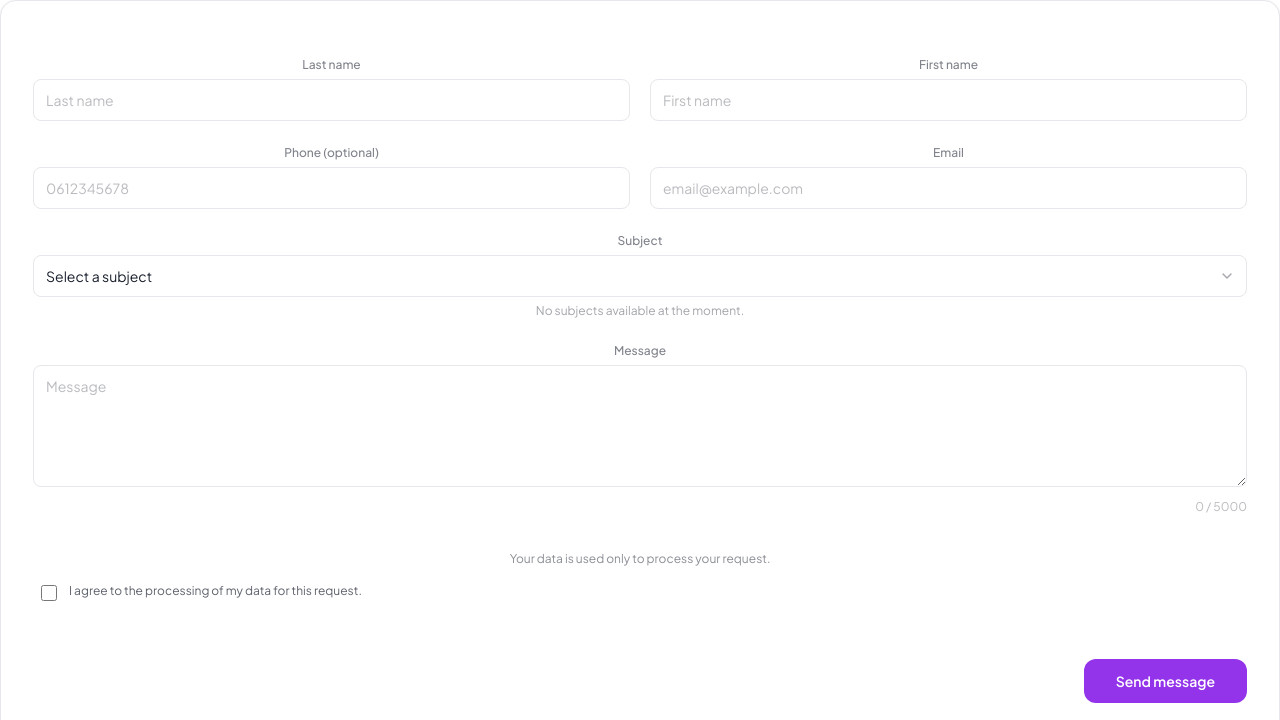
Test: ContactForm › shows validation errors on empty submit
The width and height of the screenshot is (1280, 720).
Click the button "Send message".
click(1165, 681)  # box [1084,659,1247,703]
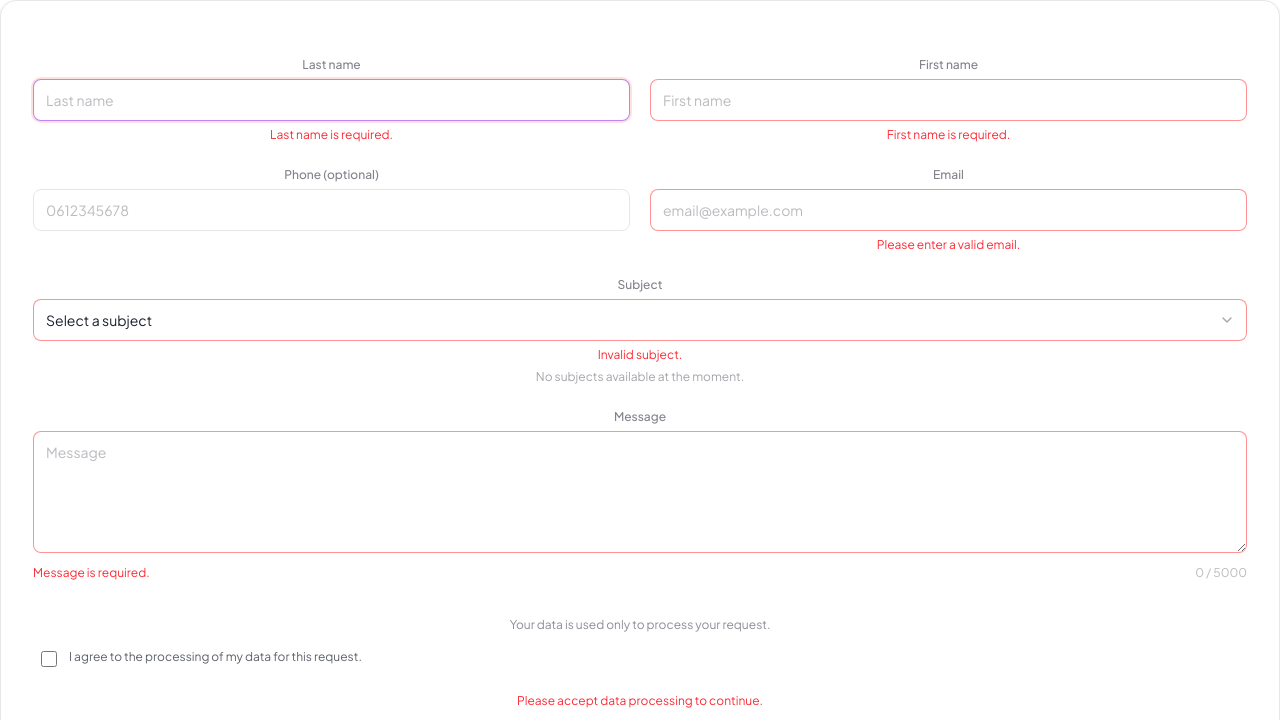
Expected: the text "Last name is required." is shown, [270,127,393,142]
Expected: the text "First name is required." is shown, [887,127,1010,142]
Expected: the text "Please enter a valid email." is shown, [877,237,1020,252]
